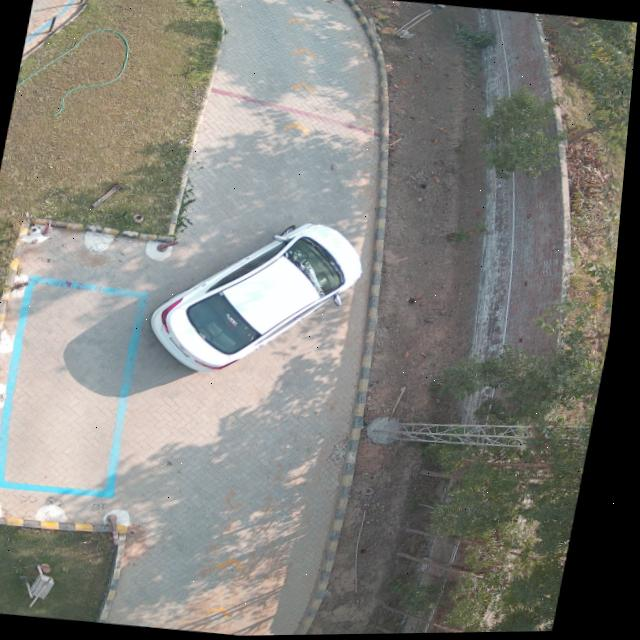car: (156, 223, 366, 372)
